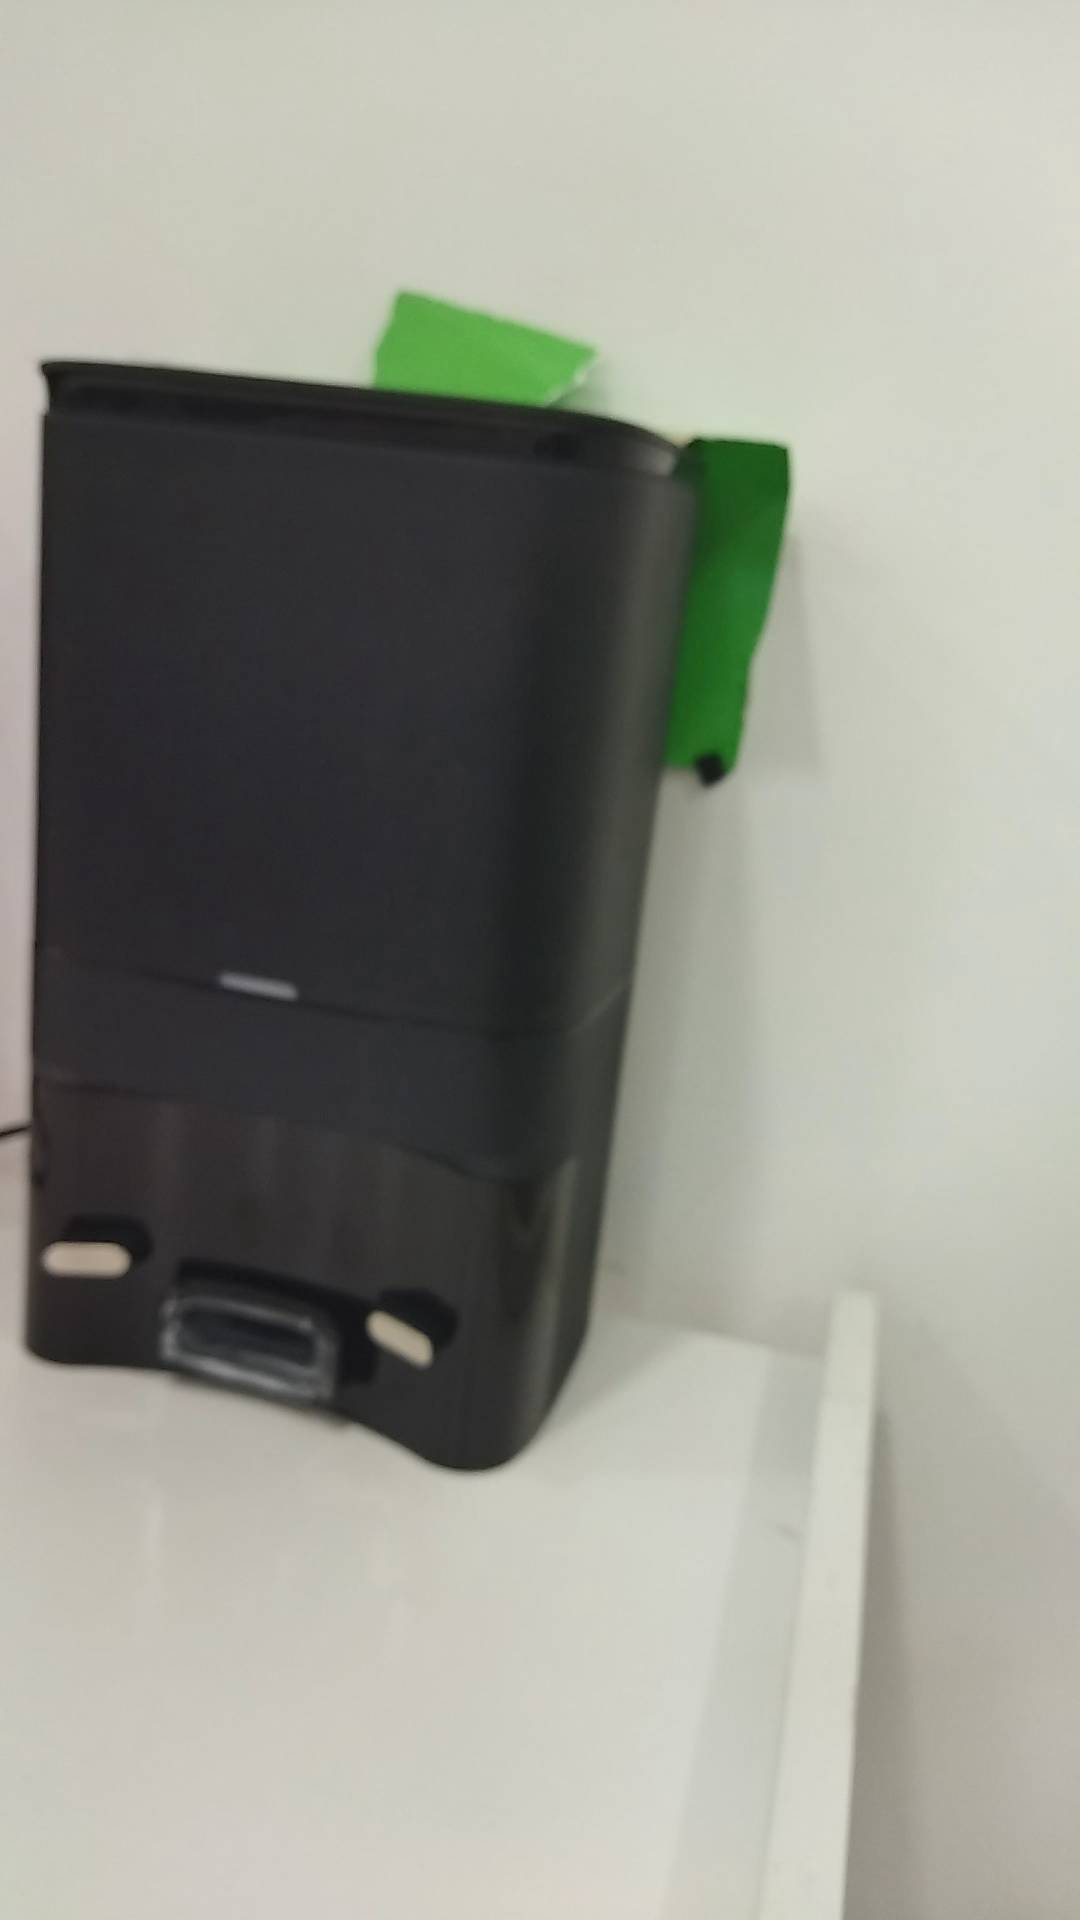dust collecting barrel: (22, 357, 702, 1472)
